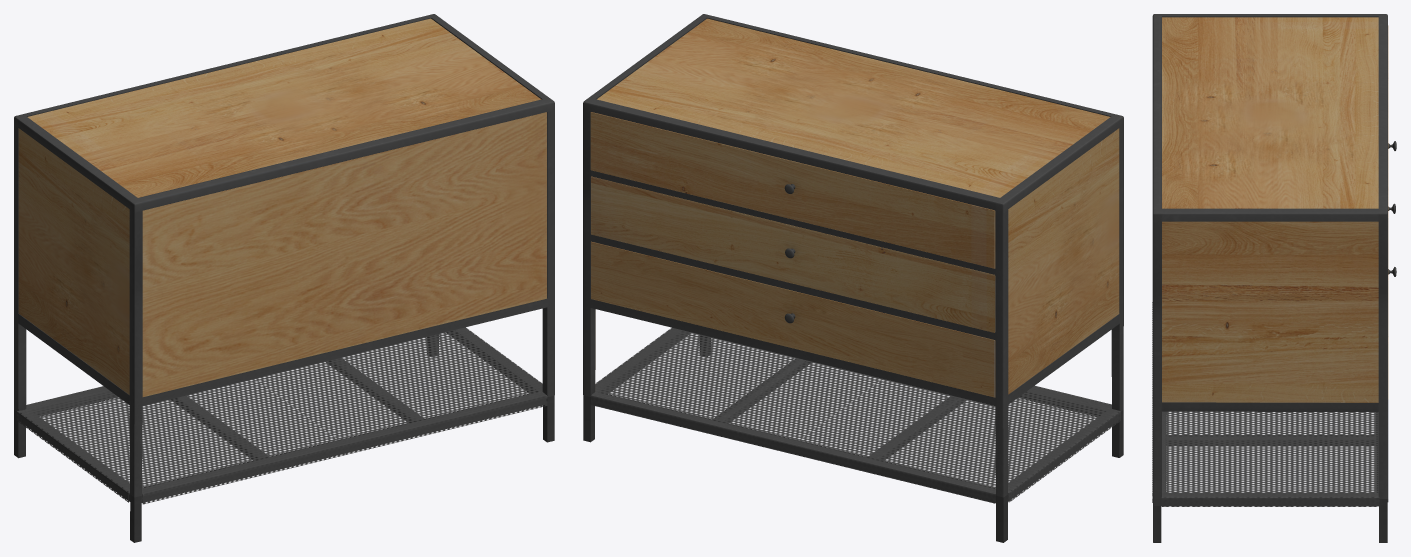
Rendered from abo_B07B813LW1.glb.
The picture shows the model from 3 angles, left to right: view 1: azimuth 30°, elevation 25°; view 2: azimuth 150°, elevation 25°; view 3: azimuth 270°, elevation 25°; orthographic projection. The views are drawn at different scales.
Visible parts, largest first — view 1: RootNode; view 2: RootNode; view 3: RootNode.
Boxes of the visible parts, box(x1,y1,x2,y2) form: RootNode: box(14, 14, 554, 542); RootNode: box(583, 14, 1123, 542); RootNode: box(1152, 14, 1396, 542).
Bounding box in the file's own units: 0.9043 × 0.6943 × 0.4649.
Materials: 1 (1 with a texture image).
